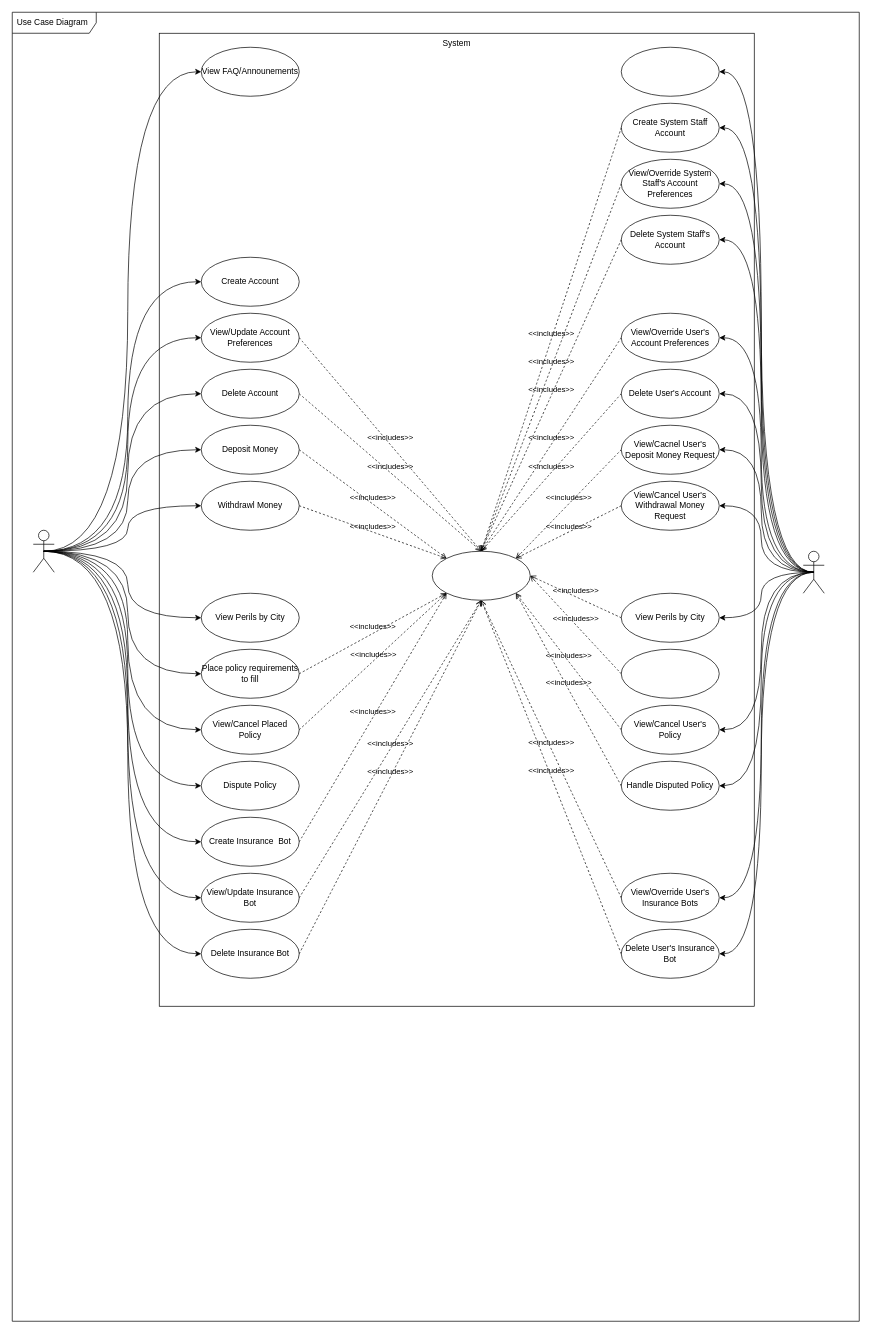
This 872x1334 diagram has some shape labels left out. The centre of each missing label's shape, as x and y in pixels:
"Insurer/Insured" belongs at (x=43, y=551).
"Login" belongs at (x=481, y=575).
"Reverse Policy Payout" belongs at (x=670, y=673).
"System Staff" belongs at (x=813, y=572).
"View/Override FAQ/Announements" belongs at (x=670, y=71).
